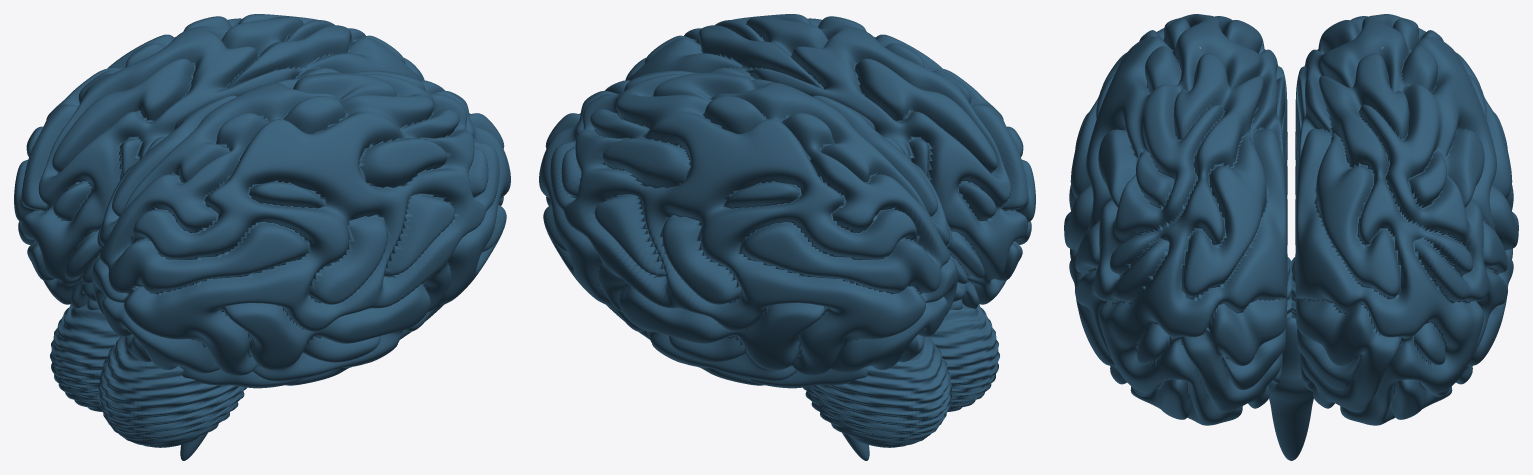
Rendered from brain.glb.
3 views of the same model, side by side, from view 1: azimuth 30°, elevation 25°; view 2: azimuth 150°, elevation 25°; view 3: azimuth 270°, elevation 25° (orthographic). The views are drawn at different scales.
Visible parts, largest first — view 1: Right cerebral hemisphere, Left cerebral hemisphere, Right cerebellum, Left cerebellum; view 2: Left cerebral hemisphere, Right cerebral hemisphere, Left cerebellum, Right cerebellum; view 3: Right cerebral hemisphere, Left cerebral hemisphere, Brainstem.
Part boxes in pixels (x1,y1,x2,y2): Right cerebral hemisphere: [92, 70, 510, 388]; Left cerebral hemisphere: [14, 14, 424, 309]; Right cerebellum: [97, 336, 246, 447]; Left cerebellum: [50, 303, 120, 412]; Left cerebral hemisphere: [539, 70, 957, 388]; Right cerebral hemisphere: [625, 14, 1035, 309]; Left cerebellum: [803, 336, 952, 447]; Right cerebellum: [929, 303, 999, 412]; Right cerebral hemisphere: [1064, 14, 1287, 425]; Left cerebral hemisphere: [1295, 14, 1518, 425]; Brainstem: [1269, 317, 1313, 460].
Bounding box in the file's own units: 2.16 × 1.98 × 1.78.
